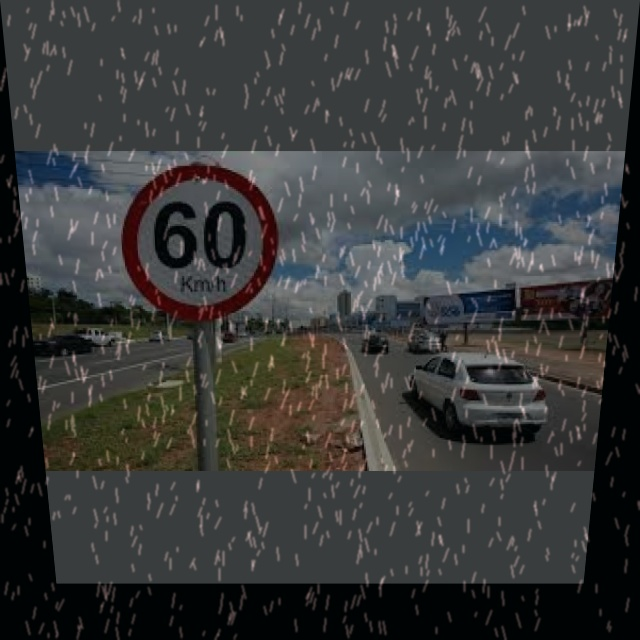Speed_Limit_60: (119, 160, 274, 320)
